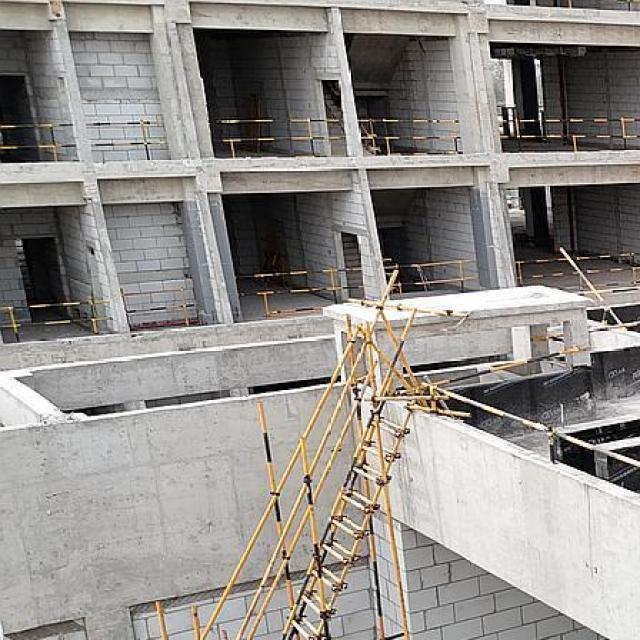edge_guardrail: (433, 387, 640, 469), (430, 344, 591, 386), (234, 267, 365, 317), (209, 119, 345, 160), (0, 295, 114, 343), (497, 118, 640, 152), (559, 246, 621, 324), (514, 253, 640, 290), (358, 118, 462, 156), (384, 260, 479, 296), (119, 286, 195, 331), (85, 120, 168, 160), (0, 123, 76, 161), (531, 321, 640, 342), (567, 0, 640, 11)
